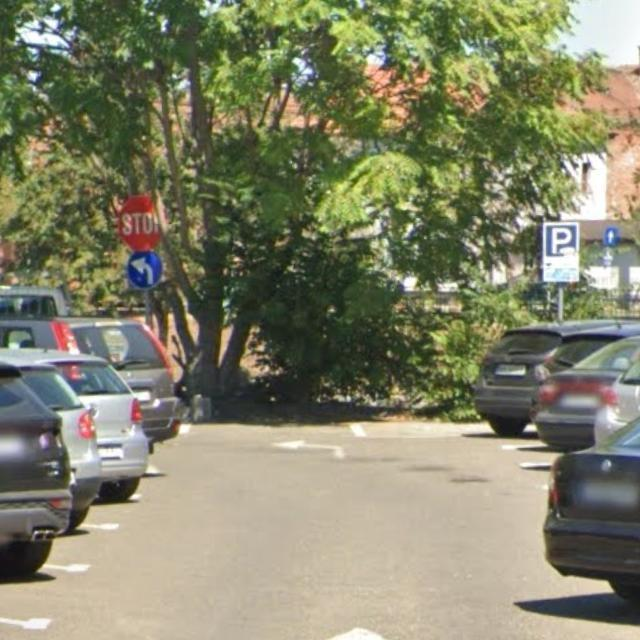prio_stop: (116, 194, 164, 253)
